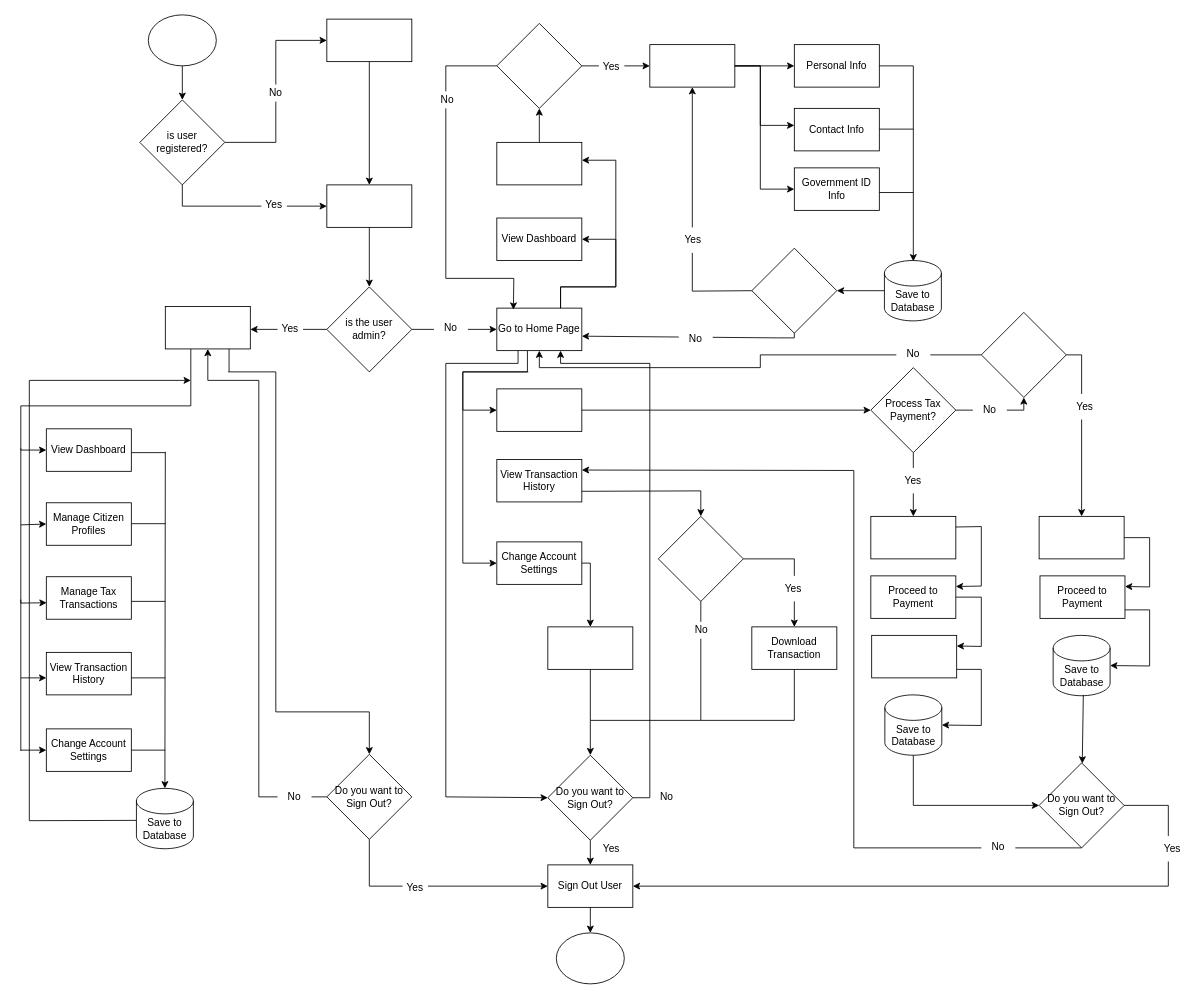
The diagram is 1200 pixels wide and 999 high, and some of its shapes have lost their labels. Each missing label, with the centre of its shape:
"Admin Page" belongs at (207,327).
"Do you want to edit info?" belongs at (539,65).
"Do you want to edit more?" belongs at (794,290).
"Download Transaction?" belongs at (700,558).
"Edit Account Settings" belongs at (590,647).
"Edit Information" belongs at (692,65).
"End" belongs at (589,958).
"Fill Up Payer Info" belongs at (913,537).
"Fill Up Tax Info" belongs at (1081,537).
"Login" belongs at (369,205).
"Payment Status" belongs at (914,656).
"Process Real Property Tax" belongs at (539,409).
"Process Tax Clearance?" belongs at (1023,354).
"Register" belongs at (369,40).
"Start" belongs at (181,40).
"View Profile Info" belongs at (539,163).
